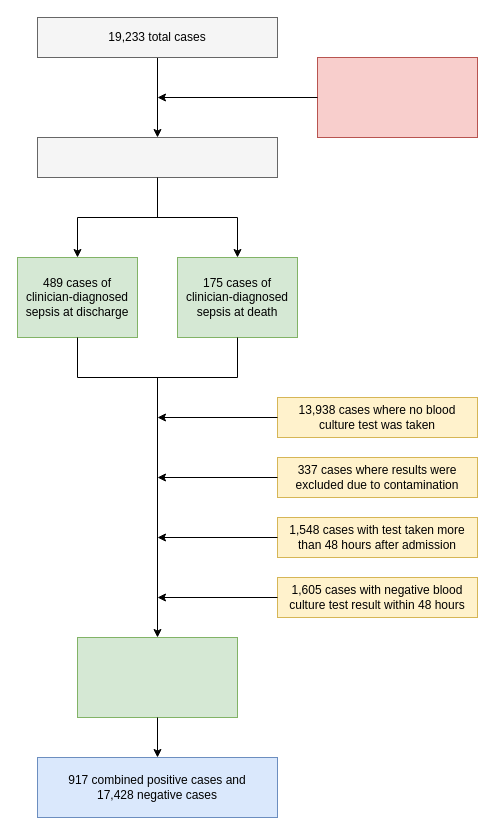
This 495x835 diagram has some shape labels left out. The centre of each missing label's shape, as x and y in pixels:
18,345 cases: (157,157)
253 cases with positive blood culture test result within 48 hours of admission: (157,677)
Cases where age not recorded (n=387) or age is over 72 hours (n=501) removed: (397,97)
